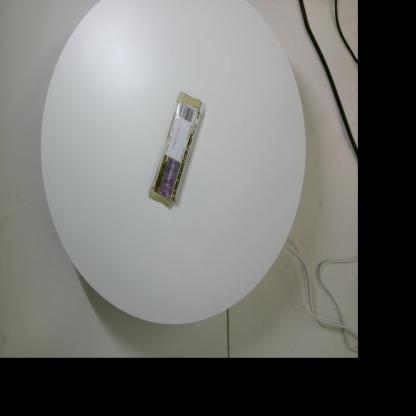Chocolate: (148, 90, 206, 208)
